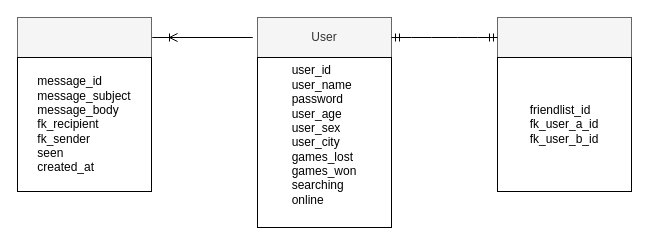
Some shapes in this 649 by 245 pixel diagram are drawn without their labels. The shapes that lost their labels are listed below. From the top down, each one's box as (x1, y1, x2, y2) in pixels, then its label:
(16, 16, 152, 58): Messages
(496, 16, 632, 58): Friendship
